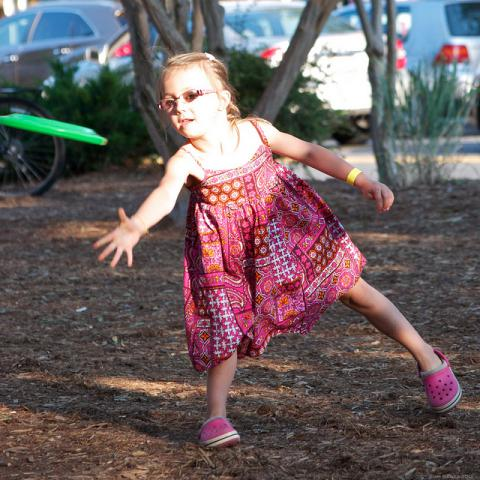car: (261, 2, 479, 115), (3, 3, 133, 98)
